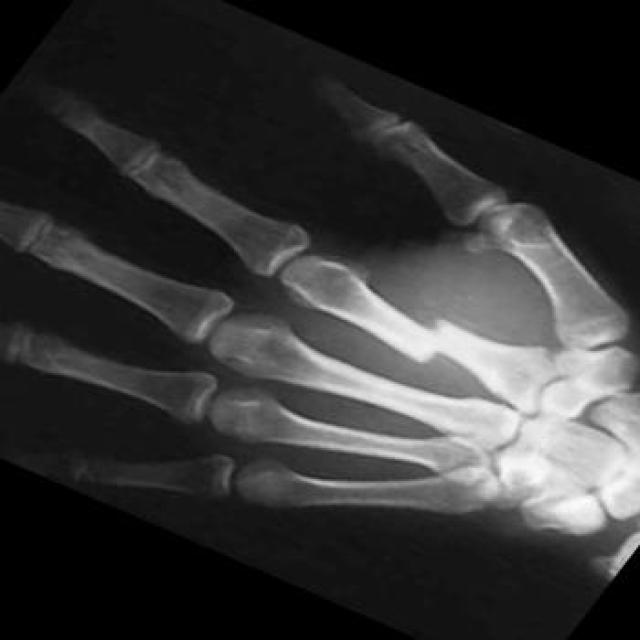Fracture: (408, 312, 459, 370)
